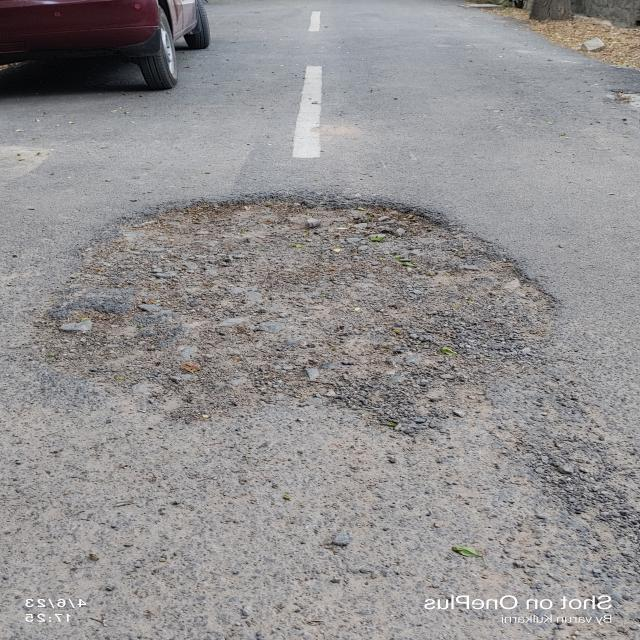potholes: (35, 183, 583, 435)
